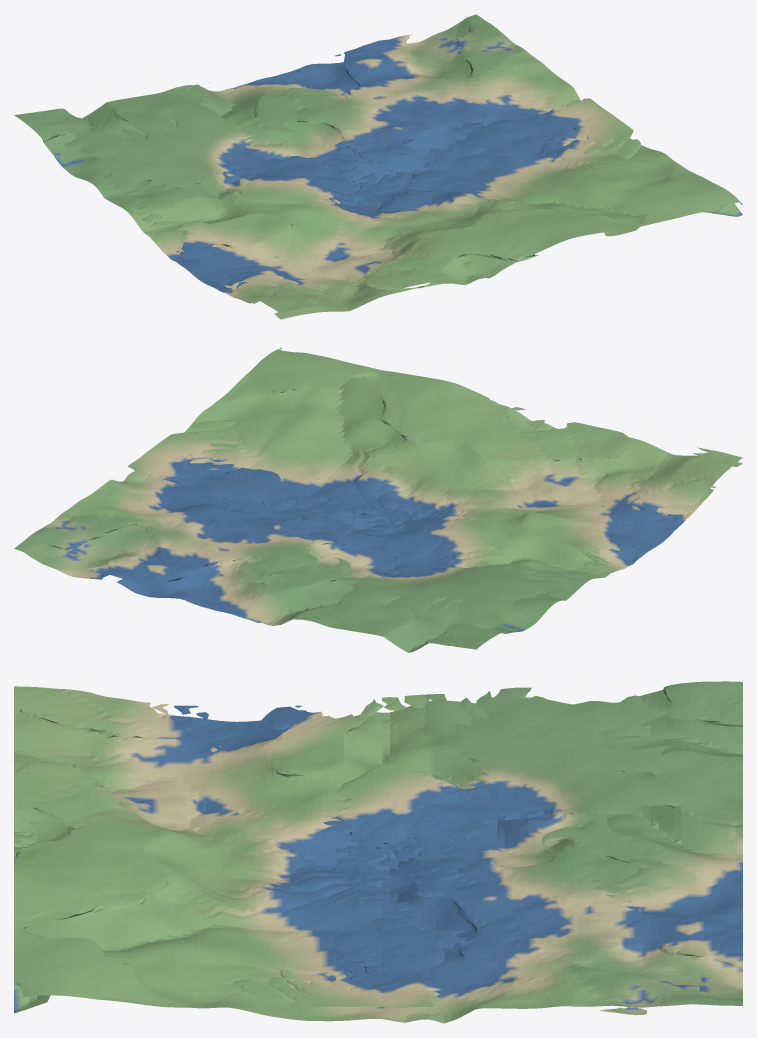
Rendered from cave 3.glb.
3 renders of one model, top to bottom at view 1: azimuth 30°, elevation 25°; view 2: azimuth 150°, elevation 25°; view 3: azimuth 270°, elevation 25°, orthographic. The views are drawn at different scales.
Visible parts, largest first — view 1: terrain; view 2: terrain; view 3: terrain.
Part boxes in pixels (bbox=[...]): terrain: bbox=[14, 14, 742, 319]; terrain: bbox=[14, 348, 742, 652]; terrain: bbox=[14, 681, 742, 1023].
Size of the model in its own units: 1200 by 88.04 by 1200.
